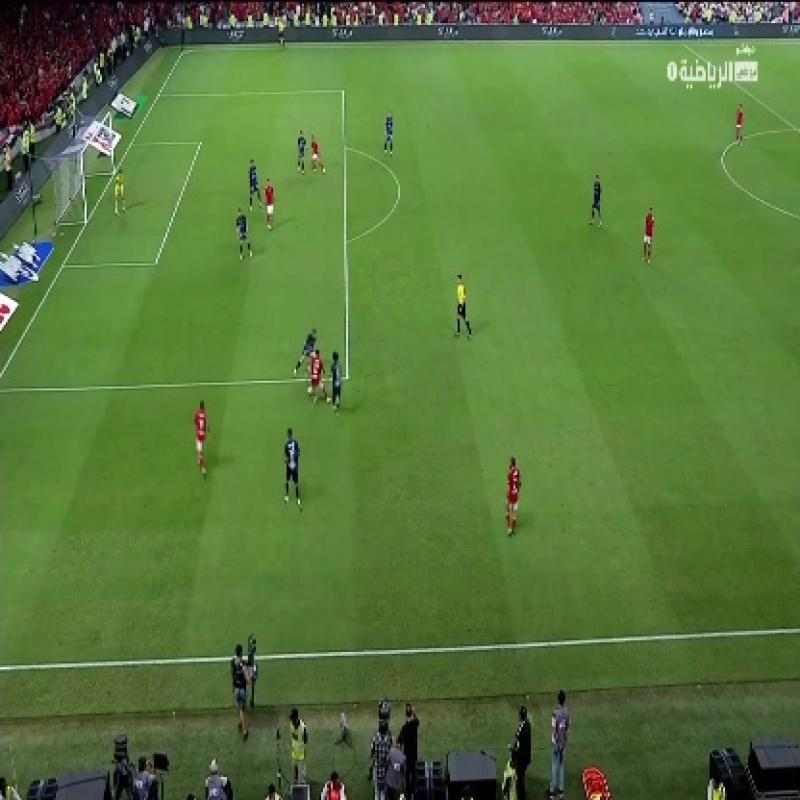1: (178, 46, 196, 58)
10: (340, 140, 351, 157)
11: (340, 233, 353, 251)
12: (340, 368, 354, 386)
13: (678, 38, 696, 54)
14: (788, 122, 798, 136)
2: (154, 88, 167, 100)
3: (127, 138, 141, 152)
4: (55, 258, 73, 274)
7: (194, 137, 204, 150)
8: (146, 252, 165, 272)
9: (336, 83, 350, 99)
c: (720, 169, 740, 187)
